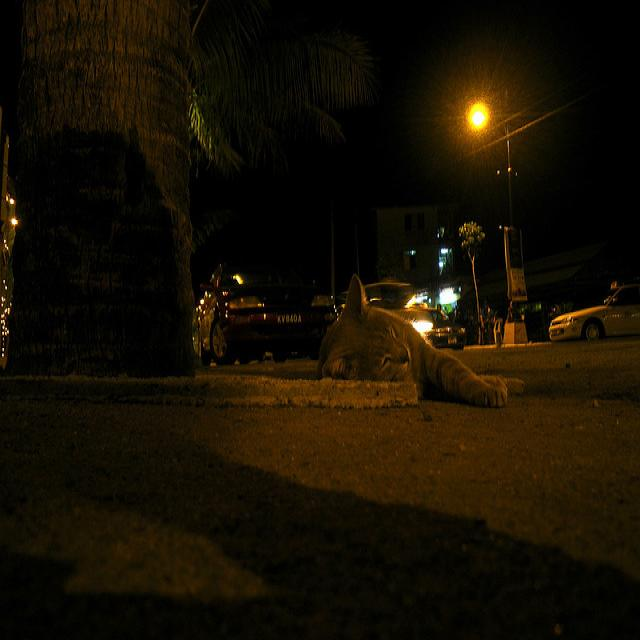Cat: (330, 283, 481, 445)
car: (197, 223, 338, 377), (544, 262, 640, 344), (534, 304, 640, 359), (400, 282, 468, 357)
